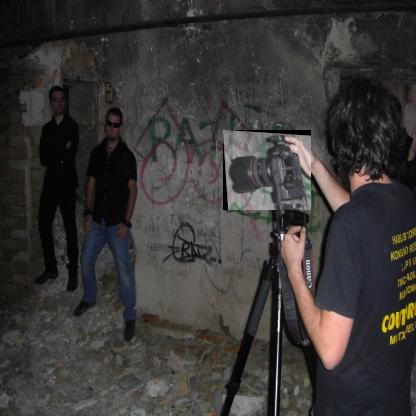Camera: (224, 131, 313, 212)
